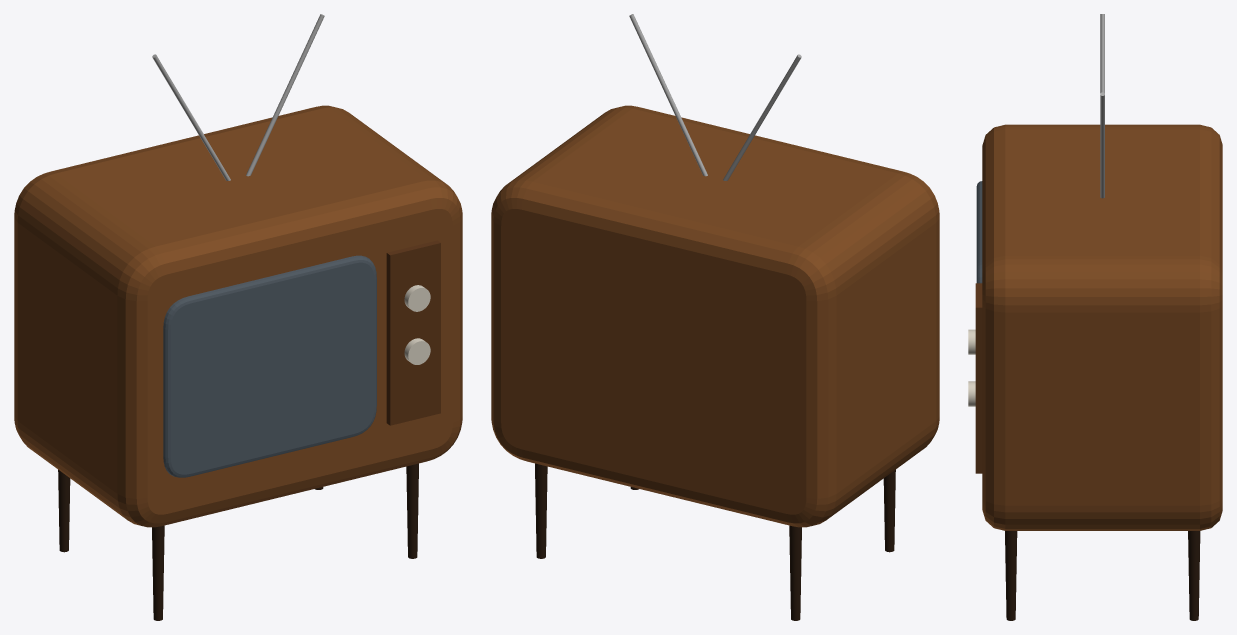
3 views of the same model, side by side, from view 1: azimuth 30°, elevation 25°; view 2: azimuth 150°, elevation 25°; view 3: azimuth 270°, elevation 25° (orthographic). The views are drawn at different scales.
Visible parts, largest first — view 1: tv; view 2: tv; view 3: tv.
Part boxes in pixels (x1=…): tv: x1=14, y1=14, x2=462, y2=620; tv: x1=491, y1=14, x2=939, y2=620; tv: x1=968, y1=14, x2=1222, y2=620.
Size of the model in its own units: 0.672 by 0.9747 by 0.445.
